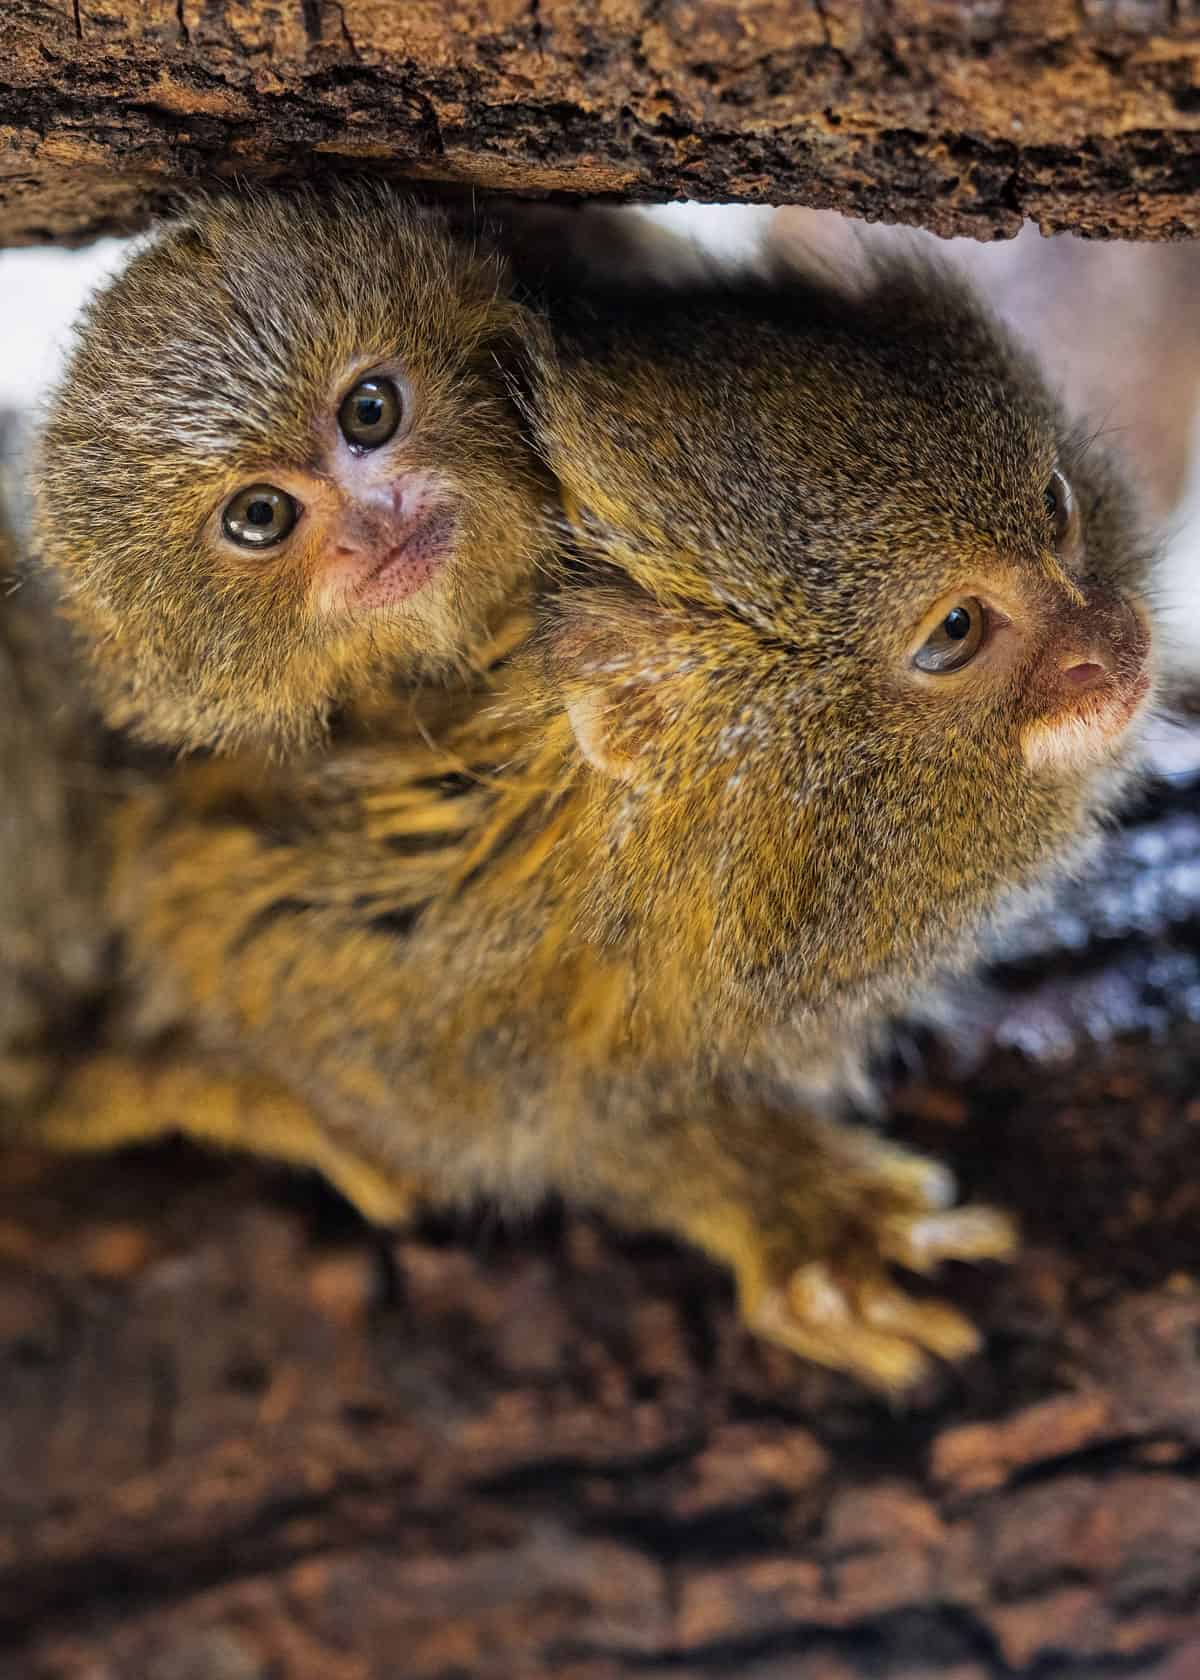PygmyMarmoset: (106, 322, 1134, 1168), (45, 197, 534, 741)
